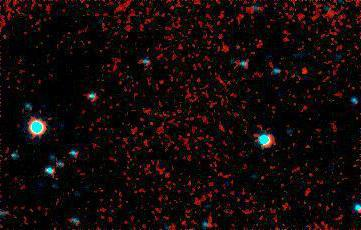star: (288, 57, 318, 87)
